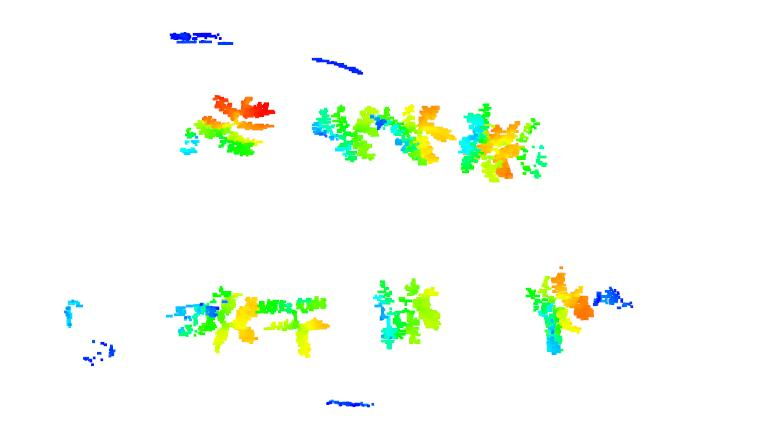chickpea: (523, 265, 634, 357), (455, 101, 550, 184), (168, 287, 260, 356), (183, 92, 274, 159), (378, 99, 458, 168), (373, 277, 443, 354), (312, 100, 383, 166), (260, 295, 332, 360)
